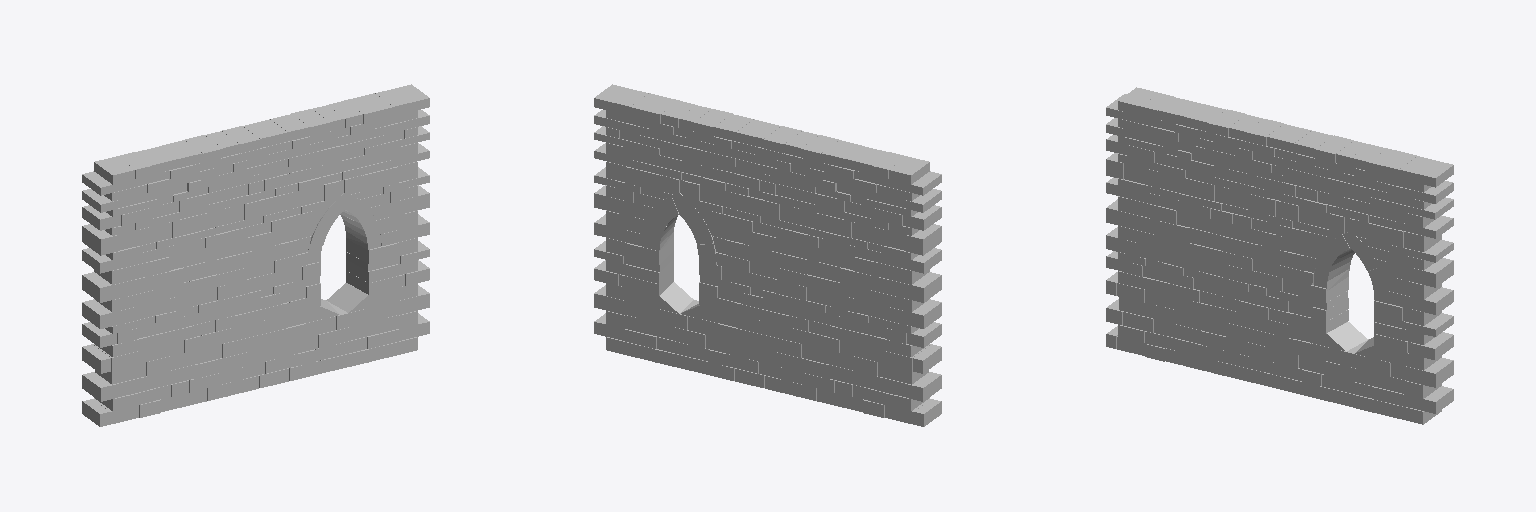
Rendered from wall_1.obj.
3 renders of one model, left to right at view 1: azimuth 30°, elevation 25°; view 2: azimuth 150°, elevation 25°; view 3: azimuth 330°, elevation 25°, orthographic.
Visible parts, largest first — view 1: Wall; view 2: Wall; view 3: Wall.
Part boxes in pixels (left/top/right/bottom): Wall: left=82, top=84, right=429, bottom=426; Wall: left=594, top=84, right=941, bottom=426; Wall: left=1106, top=87, right=1453, bottom=424.
Bounding box in the file's own units: 20.75 × 14.99 × 2.1.